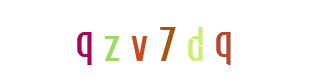7: (120, 0, 200, 80)
D: (136, 0, 216, 80)
Q: (45, 0, 125, 80), (139, 0, 219, 80)
V: (118, 0, 198, 80)
Z: (114, 0, 194, 80)
